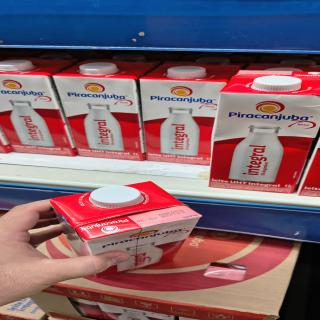Milk: (224, 63, 320, 191), (40, 179, 203, 245), (61, 58, 145, 162), (153, 56, 220, 162)
